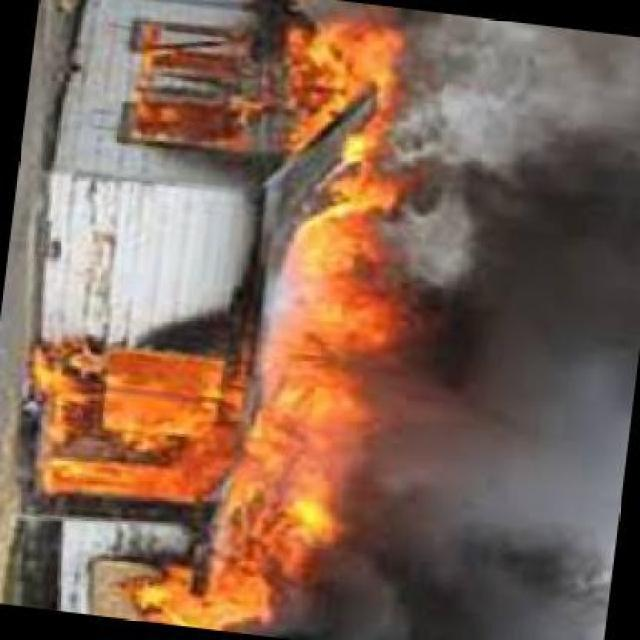Fire: (232, 13, 402, 640), (24, 334, 229, 504), (128, 18, 270, 164), (133, 560, 219, 628)
Smoke: (401, 18, 640, 639)
